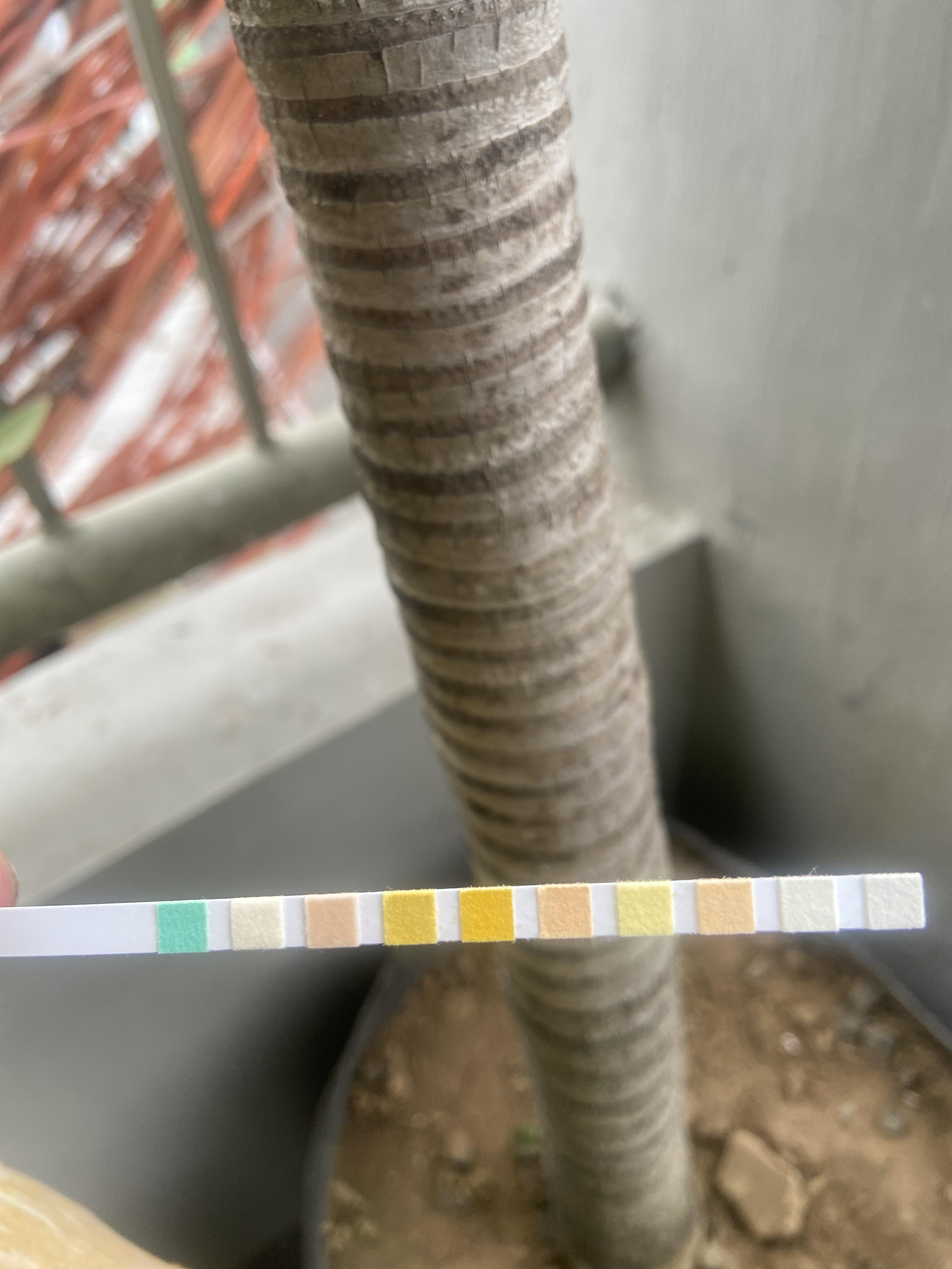Bilirubin: (233, 901, 283, 948)
Blood: (462, 891, 512, 941)
Glucose: (157, 905, 207, 952)
Ketone: (306, 897, 357, 947)
Leukocytes: (870, 875, 921, 929)
Nitrite: (782, 879, 833, 931)
Protein: (620, 885, 670, 935)
SpGravity: (385, 893, 434, 944)
Urobilinogen: (699, 882, 751, 933)
pH: (539, 887, 589, 938)
strip: (1, 874, 927, 957)
